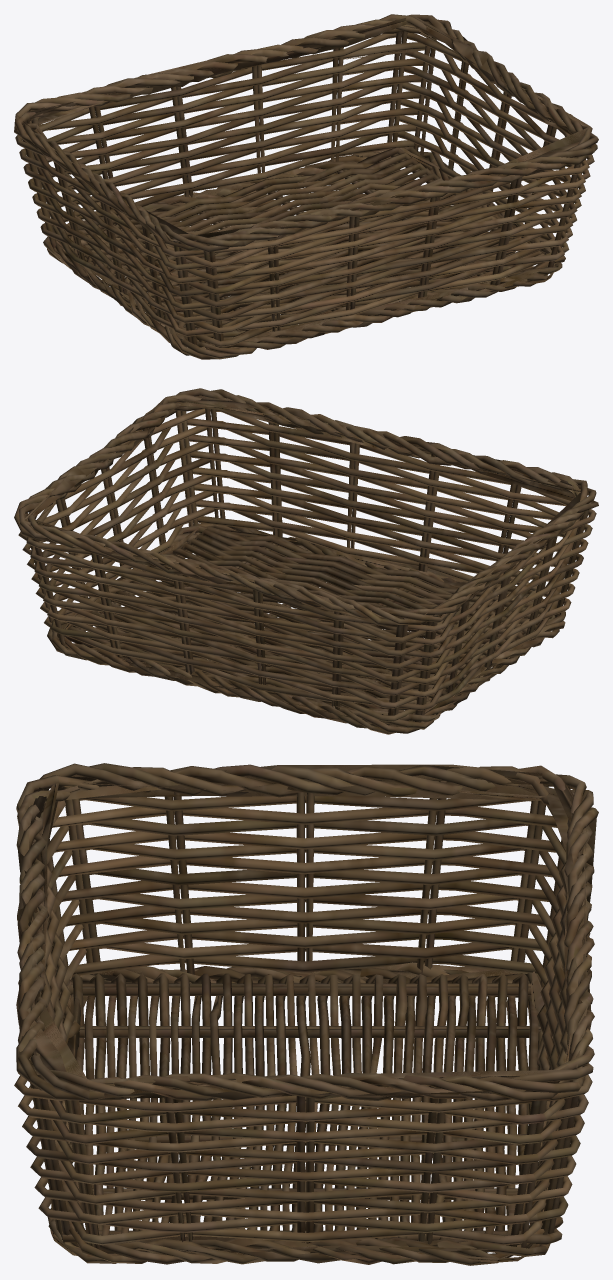
Rendered from wicker_basket_01.glb.
3 views of the same model, one above another, from view 1: azimuth 30°, elevation 25°; view 2: azimuth 150°, elevation 25°; view 3: azimuth 270°, elevation 25° (orthographic). The views are drawn at different scales.
Visible parts, largest first — view 1: wicker_basket_01, wicker_basket_01_lo; view 2: wicker_basket_01, wicker_basket_01_lo; view 3: wicker_basket_01, wicker_basket_01_lo.
Boxes of the visible parts, x1,y1,x2,y2 form: wicker_basket_01: (14,14,598,359); wicker_basket_01_lo: (17,15,589,348); wicker_basket_01: (14,388,598,734); wicker_basket_01_lo: (23,395,590,727); wicker_basket_01: (14,763,598,1265); wicker_basket_01_lo: (17,764,596,1262).
Size of the model in its own units: 0.3832 by 0.1174 by 0.295.
Materials: 1 (1 with a texture image).
